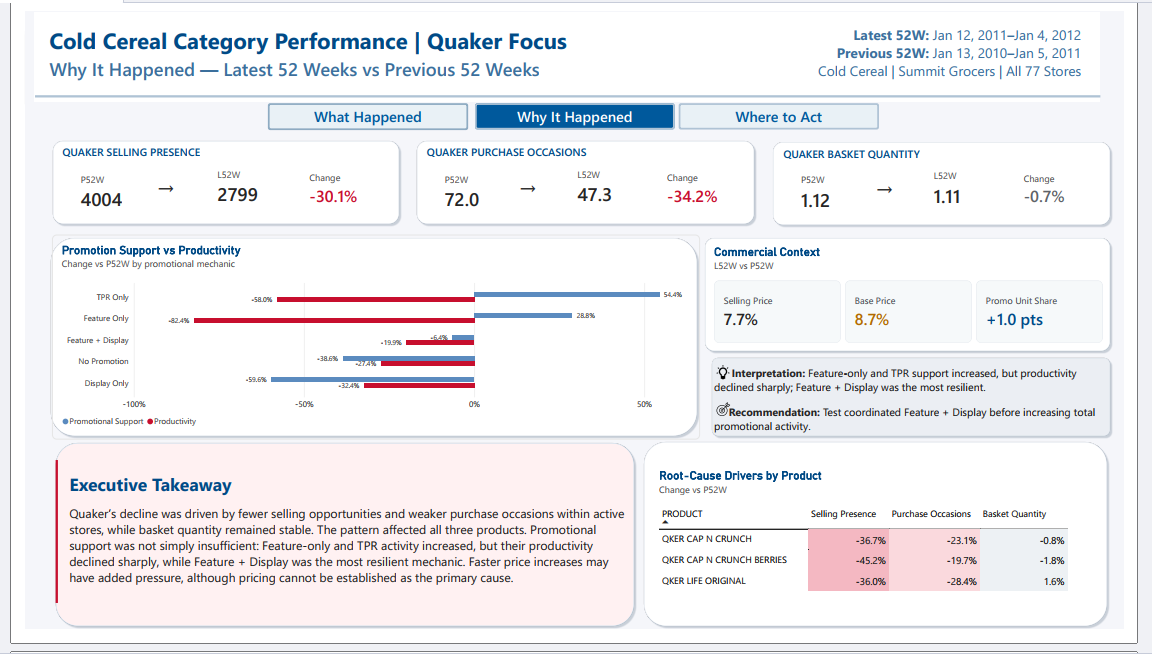

Layout of this report page (visuals, bound fields, positions):
{"tool":"powerbi","page":{"name":"Performance Drivers","canvas":[1920,1080],"ordinal":1},"visuals":[{"type":"shape","box":[16.7,0,1863.3,156.7],"z":0},{"type":"shape","box":[42.5,220,616.7,156.7],"z":0,"group":"g1"},{"type":"shape","box":[680,220,600,156.7],"z":0,"group":"g2"},{"type":"shape","box":[1302.5,222.5,600,155],"z":0,"group":"g3"},{"type":"actionButton","box":[786.7,160,349.3,46.2],"z":1000},{"type":"textbox","box":[65.6,232.6,298.1,35.4],"z":1000,"group":"g1"},{"type":"textbox","box":[702.5,232.6,290,35.4],"z":1000,"group":"g2"},{"type":"textbox","box":[1325,235,290,35],"z":1000,"group":"g3"},{"type":"cardVisual","fields":{"Data":["_Measures.Selling Store-Weeks P52W"]},"box":[81.9,263.8,152.5,102.8],"z":2000,"group":"g1"},{"type":"cardVisual","fields":{"Data":["_Measures.Visits per Store-Week P52W"]},"box":[718.3,263.8,148.3,102.8],"z":2000,"group":"g2"},{"type":"cardVisual","fields":{"Data":["_Measures.Units per Visit P52W"]},"box":[1340.8,265.8,148.3,101.7],"z":2000,"group":"g3"},{"type":"shape","box":[1076.7,746.7,820,333.3],"z":2000},{"type":"actionButton","box":[1143.3,160,349.3,46.2],"z":3000},{"type":"cardVisual","fields":{"Data":["_Measures.Selling Store-Weeks L52W"]},"box":[320,260.4,159.3,93.5],"z":3000,"group":"g1"},{"type":"cardVisual","fields":{"Data":["_Measures.Visits per Store-Week L52W"]},"box":[950,260.4,155,93.5],"z":3000,"group":"g2"},{"type":"cardVisual","fields":{"Data":["_Measures.Units per Visit L52W"]},"box":[1572.5,262.5,155,92.5],"z":3000,"group":"g3"},{"type":"textbox","box":[219.8,280.6,51.4,73.3],"z":4000,"group":"g1"},{"type":"textbox","box":[852.5,280.6,50,73.3],"z":4000,"group":"g2"},{"type":"textbox","box":[1475,282.5,50,72.5],"z":4000,"group":"g3"},{"type":"shape","box":[40,390,1140,357.5],"z":4000},{"type":"actionButton","box":[425,160,350,46.7],"z":5000},{"type":"cardVisual","fields":{"Data":["_Measures.Selling Store-Weeks % Change"]},"box":[481,263.8,155.9,91],"z":5000,"group":"g1"},{"type":"cardVisual","fields":{"Data":["_Measures.Visits per Store-Week % Change"]},"box":[1106.7,263.8,151.7,91],"z":5000,"group":"g2"},{"type":"cardVisual","fields":{"Data":["_Measures.Units per Visit % Change"]},"box":[1729.2,265.8,151.7,90],"z":5000,"group":"g3"},{"type":"shape","box":[1182.5,390,720,210],"z":6000},{"type":"shape","box":[47.5,747.5,1022.5,332.5],"z":7000},{"type":"textbox","title":"Executive Takeaway","box":[57.5,785,1012.5,277.5],"z":8000},{"type":"textbox","title":"Cold Cereal Category Performance | Quaker Focus","box":[43.3,23.3,936.7,133.3],"z":9000},{"type":"textbox","box":[1070,23.3,776.7,133.3],"z":10000},{"type":"shape","box":[17.5,112.5,1862.5,70],"z":11000},{"type":"shape","box":[0,784,112,250],"z":12000},{"type":"group","id":"g1","title":"Group 1","box":[42.5,220,617.5,157.5],"z":13000},{"type":"group","id":"g2","title":"Group 1","box":[680,220,600,157.5],"z":14000},{"type":"group","id":"g3","title":"Group 1","box":[1302.5,222.5,600,155],"z":15000},{"type":"pivotTable","title":"Root-Cause Drivers by Product","fields":{"Rows":["dh Products Lookup.DESCRIPTION"],"Values":["_Measures.Selling Store-Weeks % Change","_Measures.Visits per Store-Week % Change","_Measures.Units per Visit % Change"]},"box":[1092.5,785,790,280],"z":16000},{"type":"cardVisual","title":"Commercial Context","fields":{"Data":["_Measures.Average Selling Price % Change","_Measures.Weighted Base Price % Change","_Measures.Promo Unit Share Change Points"]},"box":[1205,407.5,680,172.5],"z":17000},{"type":"clusteredBarChart","title":"Promotion Support vs Productivity","fields":{"Category":["dh Transaction Data.Promo Mechanic"],"Y":["_Measures.Selling Store-Weeks % Change","_Measures.Units per Store-Week % Change"]},"box":[47.5,390,1132.5,357.5],"z":18000},{"type":"shape","box":[1195,600,707.5,147.5],"z":19000},{"type":"textbox","box":[1205,617.5,675,130],"z":20000},{"type":"image","box":[1202.5,617.5,35,25],"z":21000},{"type":"image","box":[1205,682.5,32,24],"z":22000}]}

Visuals, with their boxes in screenshot pixels (x1, y1, x2, y2), scaled from the page's 1920x1080 canvas onto the 1152x654 screenshot:
shape: 10:0:1128:95
shape: 26:133:396:228
shape: 408:133:768:228
shape: 782:135:1142:229
actionButton: 472:97:682:125
textbox: 39:141:218:162
textbox: 422:141:596:162
textbox: 795:142:969:164
cardVisual - _Measures.Selling Store-Weeks P52W: 49:160:141:222
cardVisual - _Measures.Visits per Store-Week P52W: 431:160:520:222
cardVisual - _Measures.Units per Visit P52W: 804:161:893:223
shape: 646:452:1138:653
actionButton: 686:97:896:125
cardVisual - _Measures.Selling Store-Weeks L52W: 192:158:288:214
cardVisual - _Measures.Visits per Store-Week L52W: 570:158:663:214
cardVisual - _Measures.Units per Visit L52W: 944:159:1036:215
textbox: 132:170:163:214
textbox: 512:170:542:214
textbox: 885:171:915:215
shape: 24:236:708:453
actionButton: 255:97:465:125
cardVisual - _Measures.Selling Store-Weeks % Change: 289:160:382:215
cardVisual - _Measures.Visits per Store-Week % Change: 664:160:755:215
cardVisual - _Measures.Units per Visit % Change: 1038:161:1129:215
shape: 710:236:1142:363
shape: 28:453:642:653
"Executive Takeaway" textbox: 34:475:642:643
"Cold Cereal Category Performance | Quaker Focus" textbox: 26:14:588:95
textbox: 642:14:1108:95
shape: 10:68:1128:111
shape: 0:475:67:626
"Group 1" group: 26:133:396:229
"Group 1" group: 408:133:768:229
"Group 1" group: 782:135:1142:229
"Root-Cause Drivers by Product" pivotTable: 656:475:1130:645
"Commercial Context" cardVisual: 723:247:1131:351
"Promotion Support vs Productivity" clusteredBarChart: 28:236:708:453
shape: 717:363:1142:453
textbox: 723:374:1128:453
image: 722:374:742:389
image: 723:413:742:428
